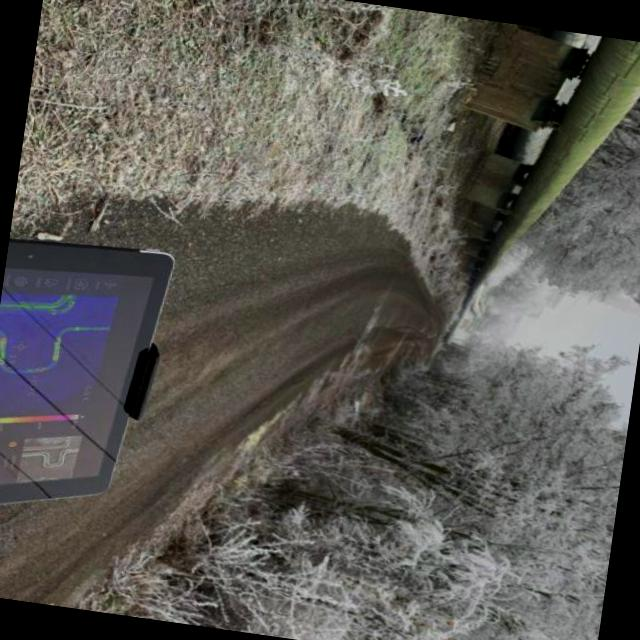gas: (468, 37, 640, 295)
